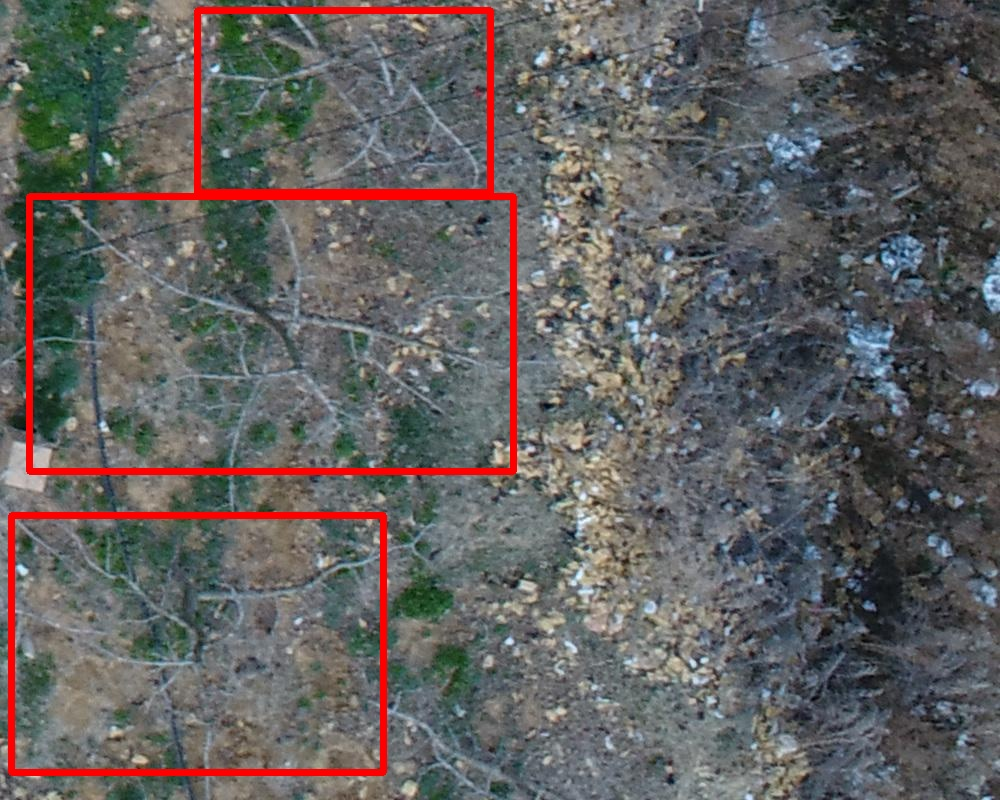apple: (29, 196, 513, 471), (11, 515, 383, 772), (197, 10, 490, 192)
